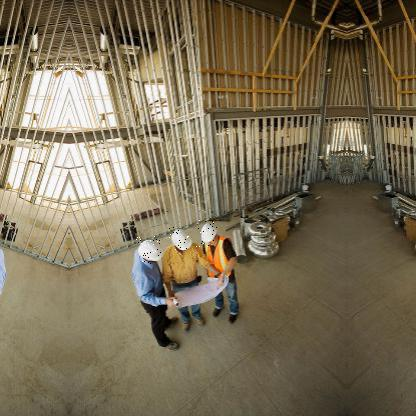safetyhelmet: (136, 236, 162, 265), (196, 218, 218, 248), (168, 226, 190, 251)
